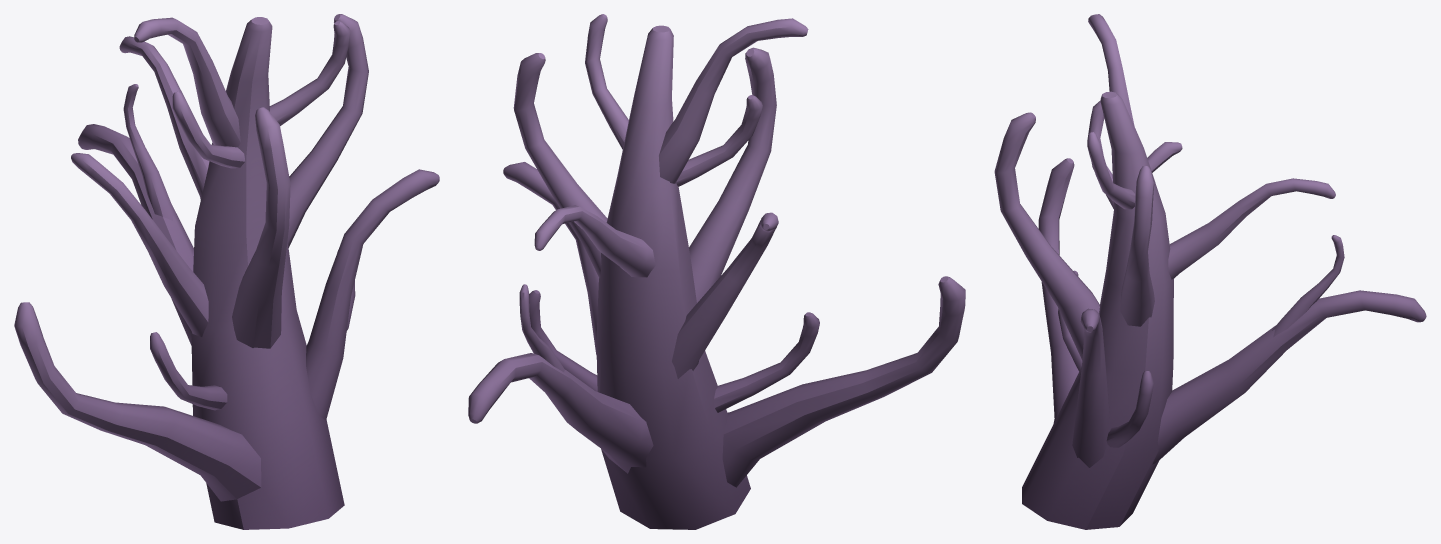
File: coral1.fbx
3 views of the same model, side by side, from view 1: azimuth 30°, elevation 25°; view 2: azimuth 150°, elevation 25°; view 3: azimuth 270°, elevation 25° (orthographic). The views are drawn at different scales.
Parts seen in each view (by area): view 1: coral plant #1; view 2: coral plant #1; view 3: coral plant #1.
Boxes of the visible parts, x1,y1,x2,y2 form: coral plant #1: [14, 14, 439, 529]; coral plant #1: [468, 14, 965, 529]; coral plant #1: [994, 14, 1426, 529].
Size of the model in its own units: 241 by 272 by 237.
